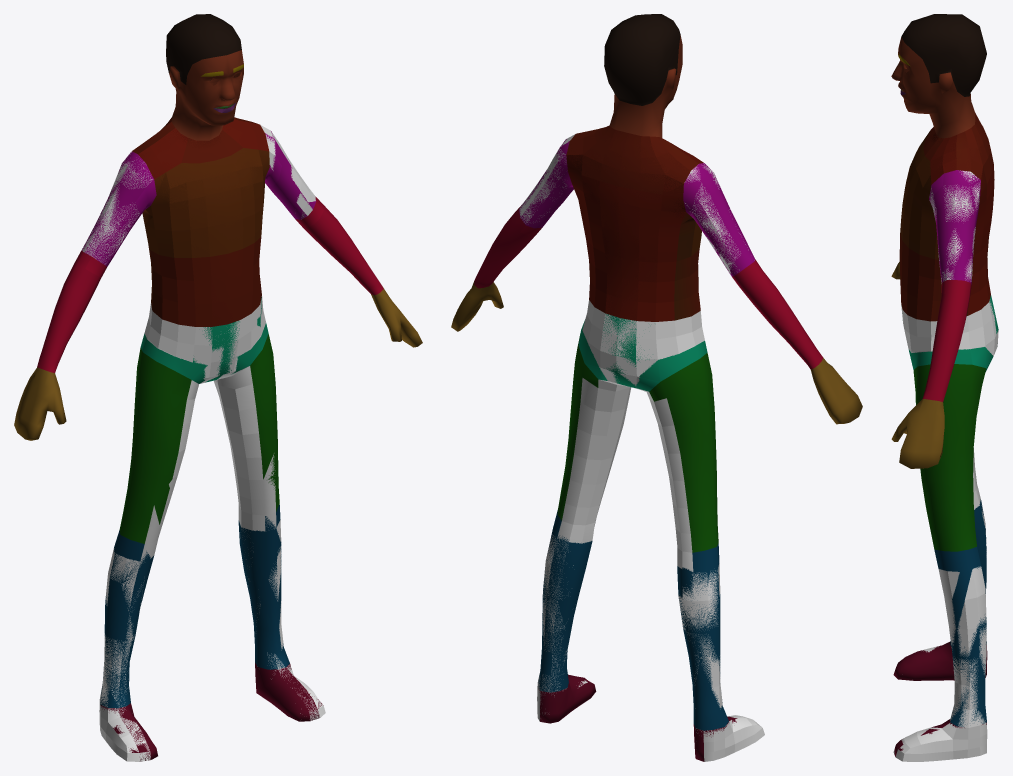
File: Body_Cage_Template.fbx
The picture shows the model from 3 angles, left to right: view 1: azimuth 30°, elevation 25°; view 2: azimuth 150°, elevation 25°; view 3: azimuth 270°, elevation 25°; orthographic projection.
Parts seen in each view (by area): view 1: std_cage_deformable, UpperTorso_OuterCage, LeftUpperLeg_OuterCage, LowerTorso_OuterCage, RightLowerLeg_OuterCage, RightUpperArm_OuterCage, RightFoot_OuterCage, RightUpperLeg_OuterCage, LeftLowerLeg_OuterCage, LeftUpperArm_OuterCage; view 2: std_cage_deformable, UpperTorso_OuterCage, LeftUpperLeg_OuterCage, LowerTorso_OuterCage, RightLowerLeg_OuterCage, RightUpperLeg_OuterCage, LeftLowerLeg_OuterCage, RightFoot_OuterCage, RightUpperArm_OuterCage, LeftUpperArm_OuterCage; view 3: std_cage_deformable, UpperTorso_OuterCage, LeftLowerLeg_OuterCage, LeftFoot_OuterCage, LowerTorso_OuterCage, LeftUpperArm_OuterCage.
Boxes of the visible parts, bbox=[...] form: std_cage_deformable: bbox=[14, 14, 422, 761]; UpperTorso_OuterCage: bbox=[132, 117, 269, 326]; LeftUpperLeg_OuterCage: bbox=[214, 366, 275, 515]; LowerTorso_OuterCage: bbox=[144, 296, 265, 383]; RightLowerLeg_OuterCage: bbox=[99, 538, 158, 707]; RightUpperArm_OuterCage: bbox=[82, 151, 152, 264]; RightFoot_OuterCage: bbox=[99, 700, 150, 761]; RightUpperLeg_OuterCage: bbox=[145, 380, 198, 543]; LeftLowerLeg_OuterCage: bbox=[238, 505, 284, 668]; LeftUpperArm_OuterCage: bbox=[260, 125, 315, 219]; std_cage_deformable: bbox=[451, 14, 862, 761]; UpperTorso_OuterCage: bbox=[566, 125, 703, 321]; LeftUpperLeg_OuterCage: bbox=[562, 378, 631, 525]; LowerTorso_OuterCage: bbox=[582, 300, 704, 391]; RightLowerLeg_OuterCage: bbox=[677, 548, 722, 709]; RightUpperLeg_OuterCage: bbox=[646, 392, 692, 552]; LeftLowerLeg_OuterCage: bbox=[537, 519, 596, 692]; RightFoot_OuterCage: bbox=[695, 715, 764, 761]; RightUpperArm_OuterCage: bbox=[684, 163, 754, 274]; LeftUpperArm_OuterCage: bbox=[519, 134, 575, 224]; std_cage_deformable: bbox=[891, 14, 998, 756]; UpperTorso_OuterCage: bbox=[899, 112, 994, 321]; LeftLowerLeg_OuterCage: bbox=[938, 566, 986, 727]; LeftFoot_OuterCage: bbox=[893, 719, 987, 761]; LowerTorso_OuterCage: bbox=[901, 299, 998, 356]; LeftUpperArm_OuterCage: bbox=[929, 170, 980, 283].
Bounding box in the file's own units: 3.23 × 5.5 × 0.7684.
